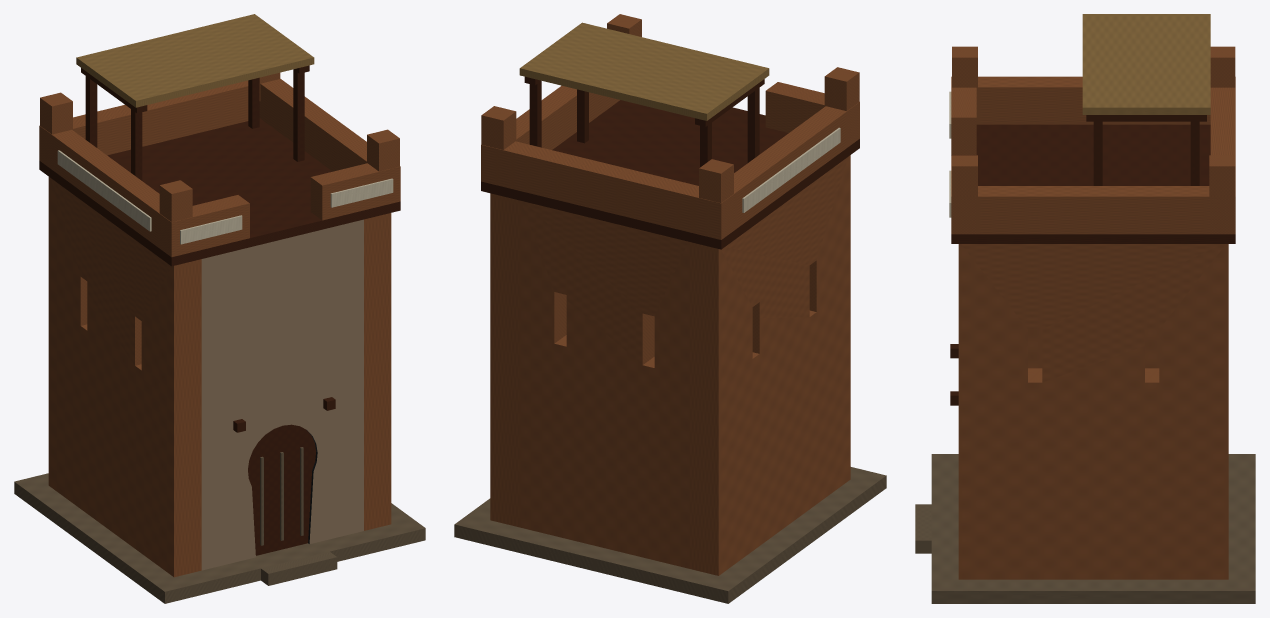
The model's file is Berber_Outpost_Age1_base.fbx.
3 views of the same model, side by side, from view 1: azimuth 30°, elevation 25°; view 2: azimuth 150°, elevation 25°; view 3: azimuth 270°, elevation 25° (orthographic). The views are drawn at different scales.
Parts seen in each view (by area): view 1: west_thick_wall, south_thick_wall, lookout_floor, fitted_flat_canopy, tower_foundation, east_thick_wall, lookout_parapet_back, horseshoe_door, lookout_parapet_side.001, lookout_parapet_side, lookout_parapet_front.001, lookout_parapet_front (+11 smaller); view 2: north_thick_wall, west_thick_wall, lookout_floor, fitted_flat_canopy, tower_foundation, lookout_parapet_back, east_thick_wall, lookout_parapet_side, lookout_parapet_side.001, lookout_parapet_front, neutral_owner_side_band, corner_merlon (+5 smaller); view 3: east_thick_wall, lookout_floor, tower_foundation, fitted_flat_canopy, lookout_parapet_side.001, lookout_parapet_side, lookout_parapet_back, lookout_parapet_front, west_thick_wall, corner_merlon.003, corner_merlon, corner_merlon.002 (+6 smaller).
Part boxes in pixels (<box>): west_thick_wall: <box>48,177,201,577</box>; south_thick_wall: <box>201,219,363,570</box>; lookout_floor: <box>39,118,400,266</box>; fitted_flat_canopy: <box>76,14,314,107</box>; tower_foundation: <box>14,473,425,603</box>; east_thick_wall: <box>364,213,391,530</box>; lookout_parapet_back: <box>39,80,248,168</box>; horseshoe_door: <box>248,424,316,555</box>; lookout_parapet_side.001: <box>259,79,366,171</box>; lookout_parapet_side: <box>51,130,165,248</box>; lookout_parapet_front.001: <box>310,163,400,220</box>; lookout_parapet_front: <box>160,195,249,257</box>; north_thick_wall: <box>519,200,689,568</box>; west_thick_wall: <box>689,155,850,575</box>; lookout_floor: <box>481,100,859,249</box>; fitted_flat_canopy: <box>519,22,769,120</box>; tower_foundation: <box>454,467,886,603</box>; lookout_parapet_back: <box>481,141,733,239</box>; east_thick_wall: <box>490,193,519,527</box>; lookout_parapet_side: <box>727,106,853,235</box>; lookout_parapet_side.001: <box>516,85,619,149</box>; lookout_parapet_front: <box>765,82,859,146</box>; neutral_owner_side_band: <box>742,127,840,212</box>; corner_merlon: <box>824,67,859,111</box>; east_thick_wall: <box>958,244,1228,579</box>; lookout_floor: <box>951,124,1235,243</box>; tower_foundation: <box>931,454,1255,603</box>; fitted_flat_canopy: <box>1082,14,1210,114</box>; lookout_parapet_side.001: <box>964,186,1223,234</box>; lookout_parapet_side: <box>976,76,1210,124</box>; lookout_parapet_back: <box>1210,77,1235,234</box>; lookout_parapet_front: <box>951,76,976,154</box>; west_thick_wall: <box>1028,329,1159,368</box>; corner_merlon.003: <box>1209,155,1235,196</box>; corner_merlon: <box>952,46,977,106</box>; corner_merlon.002: <box>952,155,977,196</box>.
Size of the model in its own units: 360 by 582 by 378.
Materials: 5 (5 with a texture image).
